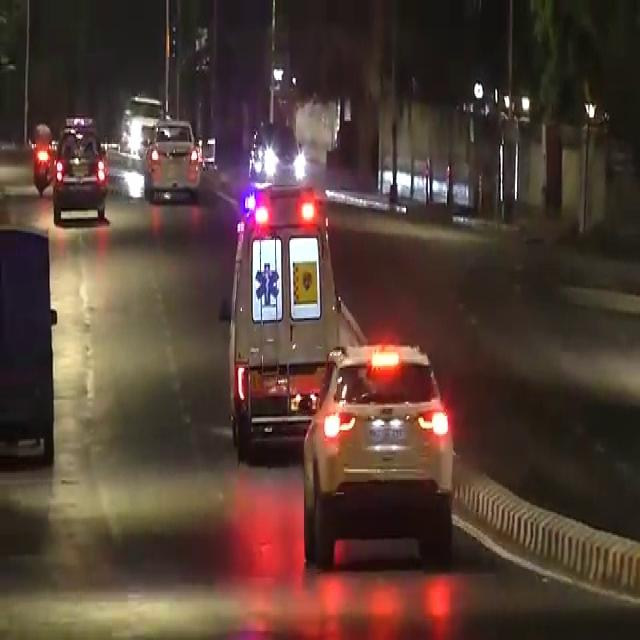ambulance: (238, 172, 333, 426)
